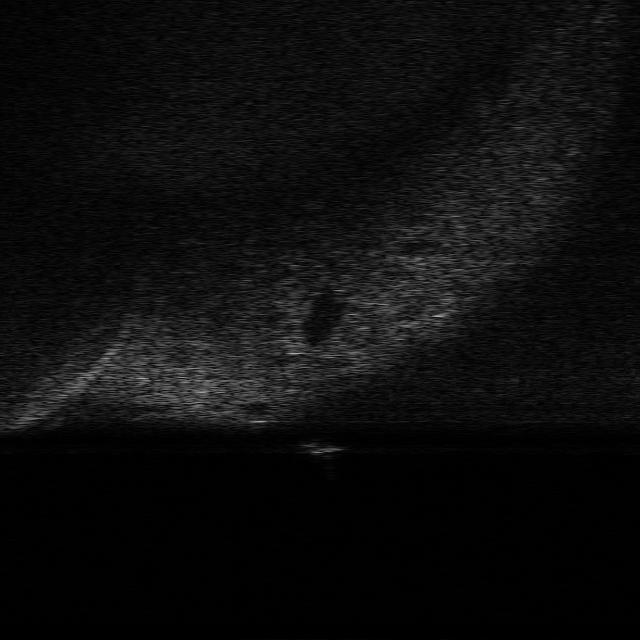cube: (294, 437, 345, 459)
